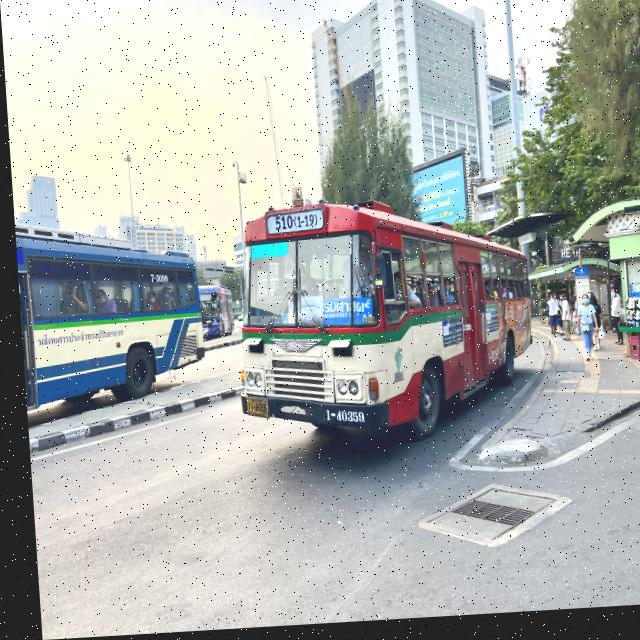BMTA-bus: (224, 197, 535, 455)
Bus-Line-Number: (260, 213, 321, 238)
Destination-Sign-Normal: (319, 299, 371, 331)
